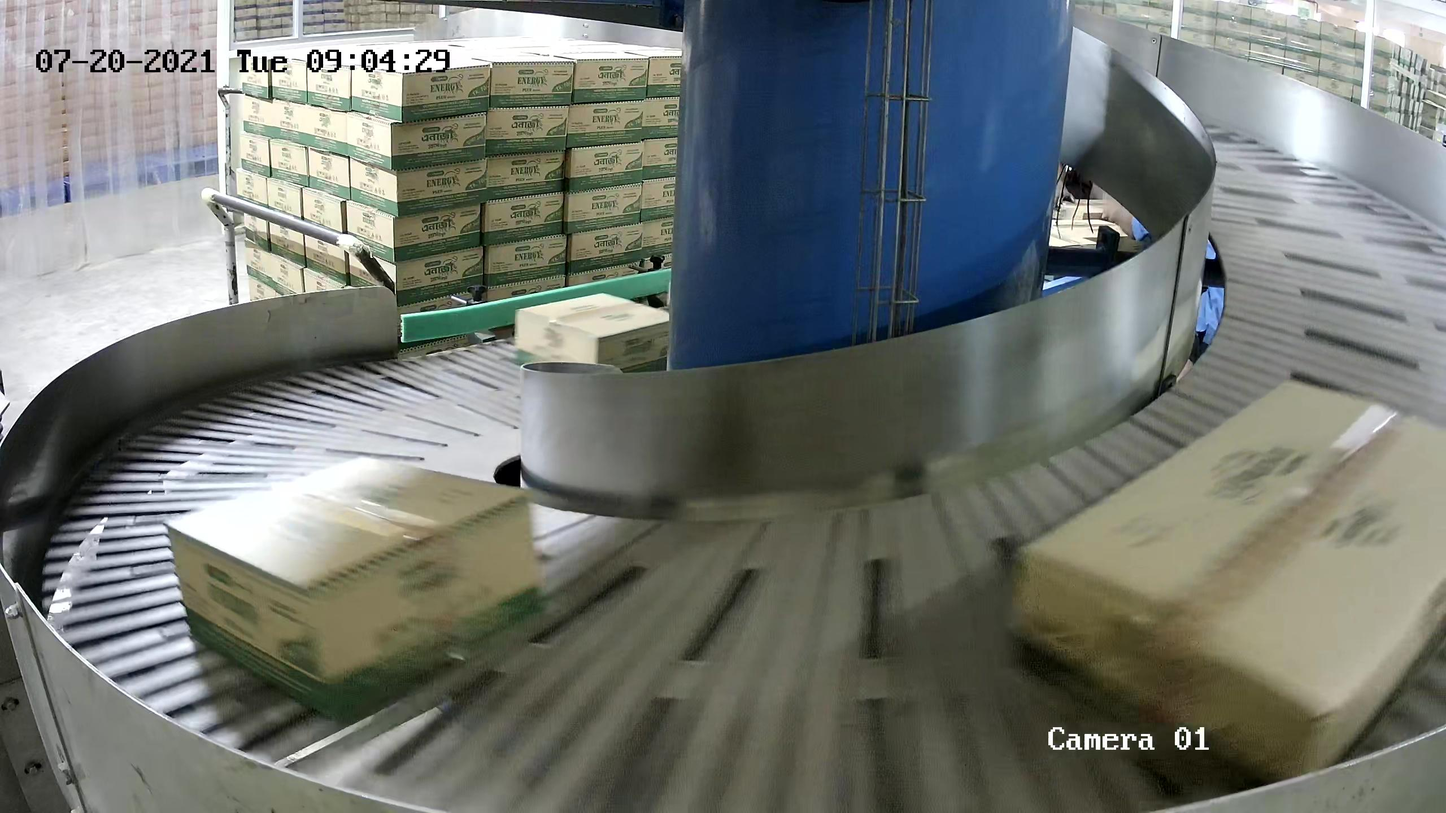Box: (1002, 375, 1446, 792), (161, 454, 543, 718), (514, 292, 670, 373)
